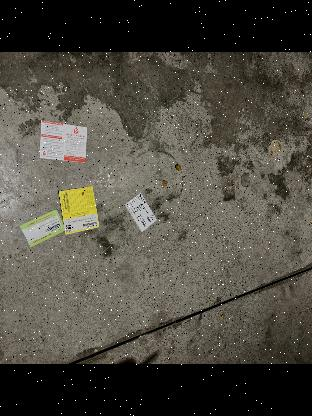Others: (36, 114, 90, 172), (56, 182, 102, 238), (15, 209, 71, 251), (124, 189, 160, 235)
